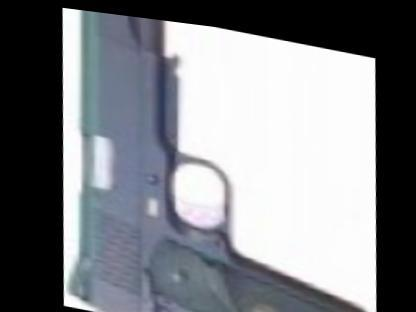pistol: (43, 4, 381, 311)
